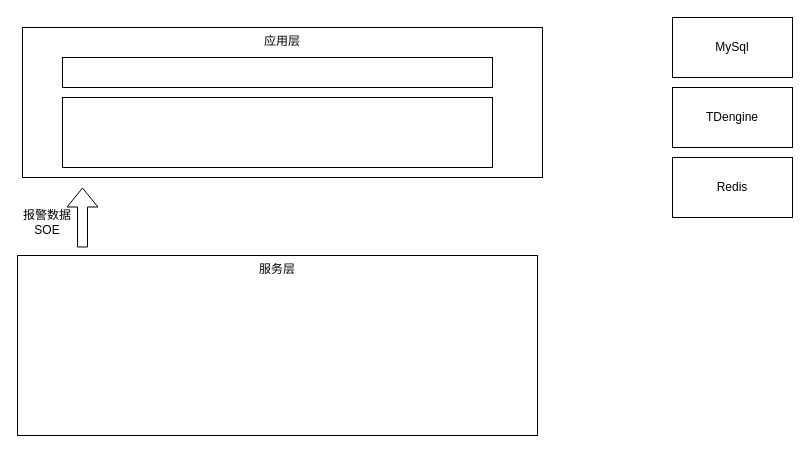
Some shapes in this 810 by 453 pixel diagram are drawn without their labels. The centre of each missing label's shape, as x and y in pixels:
"JAVA后端" goes at (x=277, y=132).
"WEB前端" goes at (x=277, y=72).
